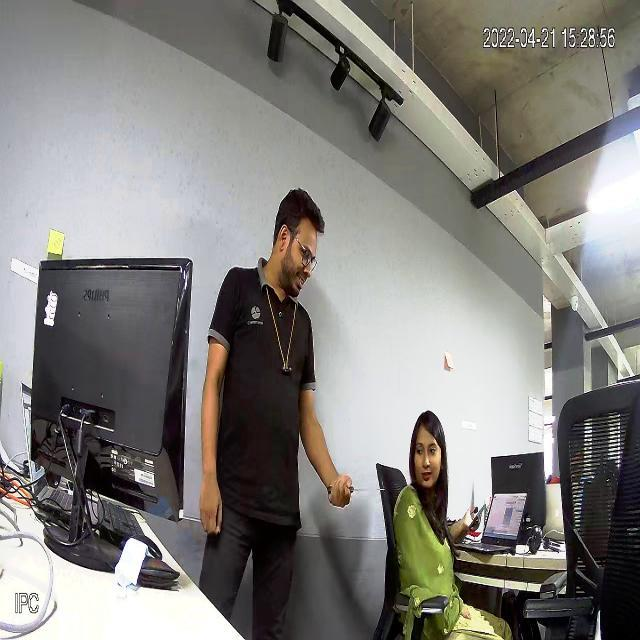Knife: (324, 462, 397, 510)
